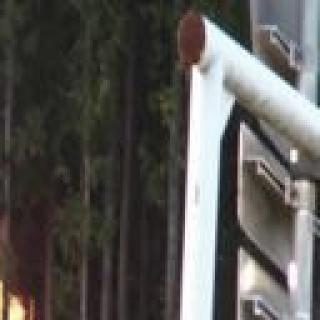fire: (0, 124, 49, 320)
